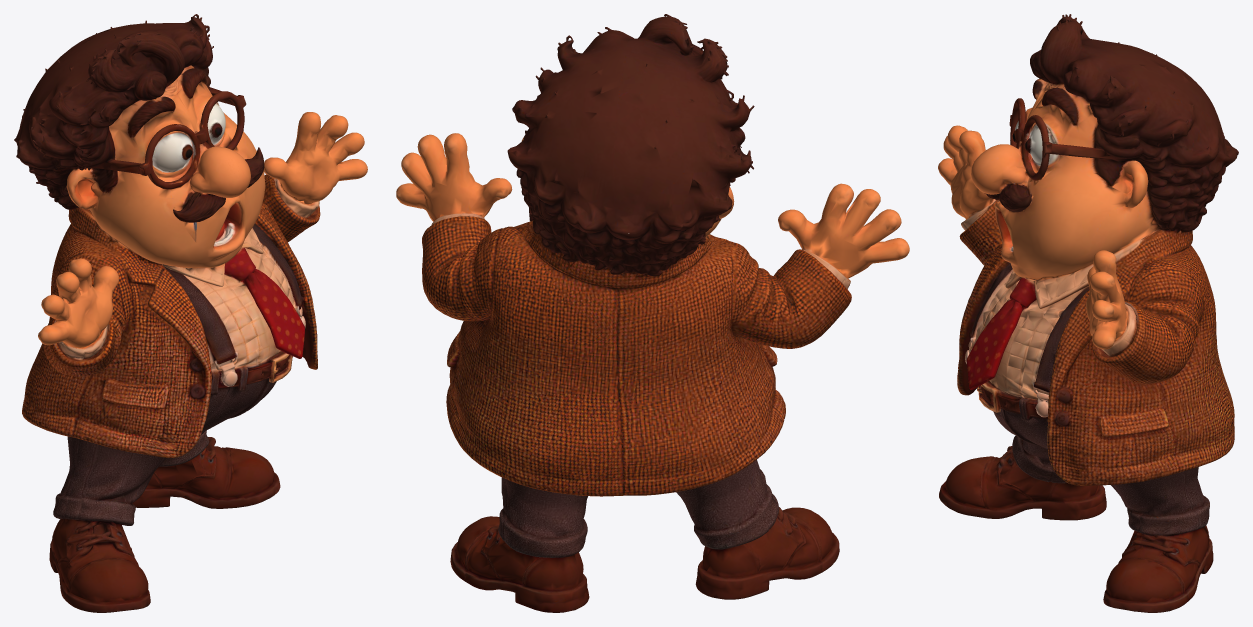
Rendered from surpreso.glb.
3 renders of one model, left to right at view 1: azimuth 30°, elevation 25°; view 2: azimuth 150°, elevation 25°; view 3: azimuth 270°, elevation 25°, orthographic. The views are drawn at different scales.
Parts seen in each view (by area): view 1: tripo_node_f06ca3b6-c0d5-4f7e-8fa9-46c787f7f1b0; view 2: tripo_node_f06ca3b6-c0d5-4f7e-8fa9-46c787f7f1b0; view 3: tripo_node_f06ca3b6-c0d5-4f7e-8fa9-46c787f7f1b0.
Boxes of the visible parts, box(x1,y1,x2,y2) form: tripo_node_f06ca3b6-c0d5-4f7e-8fa9-46c787f7f1b0: box(14, 14, 367, 612); tripo_node_f06ca3b6-c0d5-4f7e-8fa9-46c787f7f1b0: box(396, 14, 909, 612); tripo_node_f06ca3b6-c0d5-4f7e-8fa9-46c787f7f1b0: box(938, 14, 1238, 612).
Size of the model in its own units: 0.7942 by 0.98 by 0.5162.
1 material, 1 textured.
